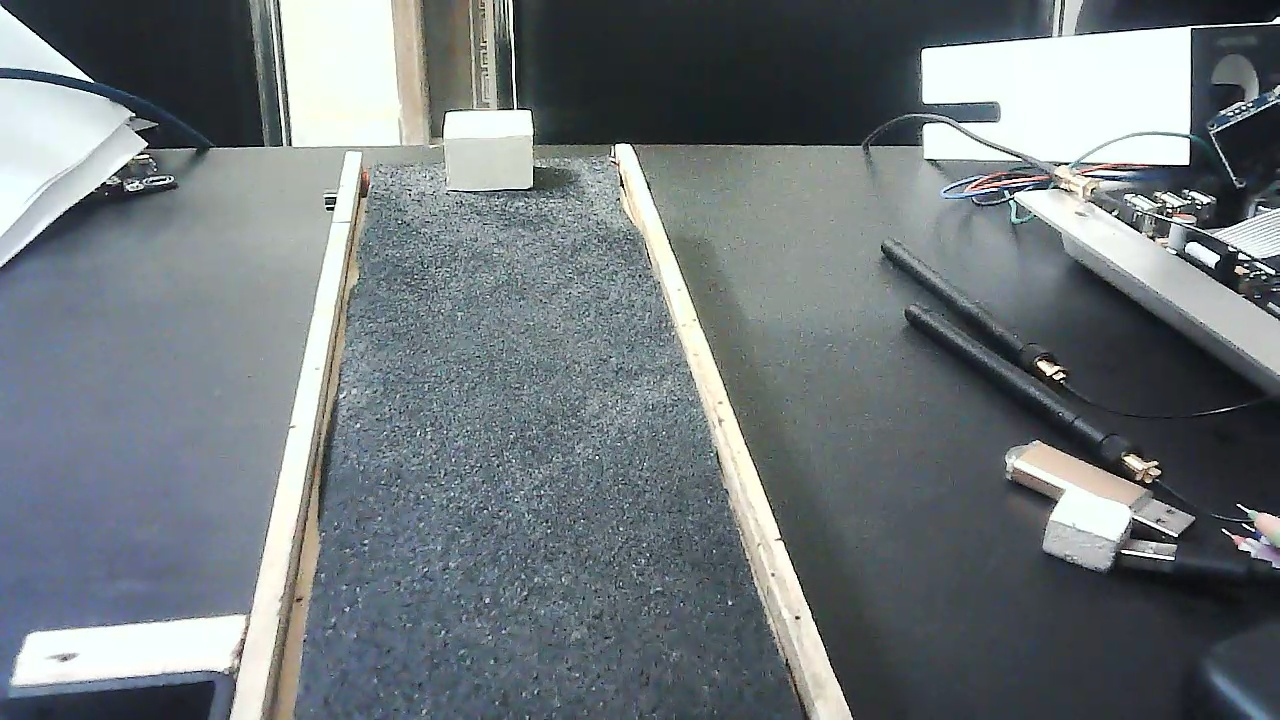Medium: (443, 105, 535, 197)
